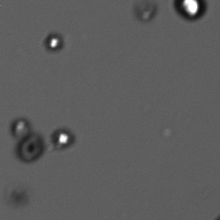Dead Cell: (15, 132, 46, 162), (134, 1, 156, 24), (9, 186, 29, 209), (11, 118, 30, 138)
Living Cell: (178, 1, 206, 23), (45, 34, 65, 51), (54, 129, 72, 147)
